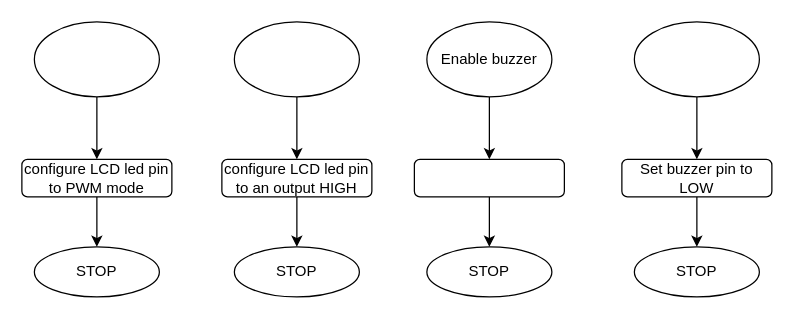
Image size: 794x319. Some labels were removed from this diagram. The shapes that lost their labels are listed below. From the top down, each one's box as (x1, y1, x2, y2) in pixels, then its label:
(33, 21, 159, 97): Enable Display Flashing
(233, 21, 359, 97): Disable Display Flashing
(633, 21, 759, 97): Disable buzzer
(413, 158, 564, 197): Set buzzer pin to HIGH
